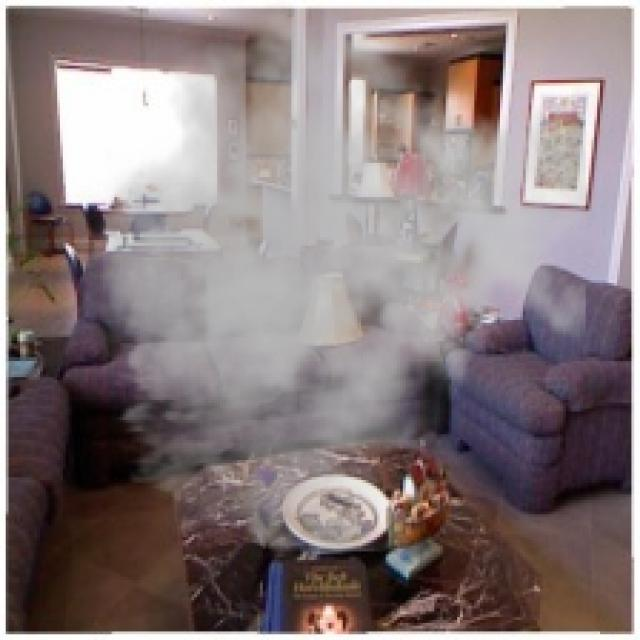smoke: (48, 0, 586, 557)
